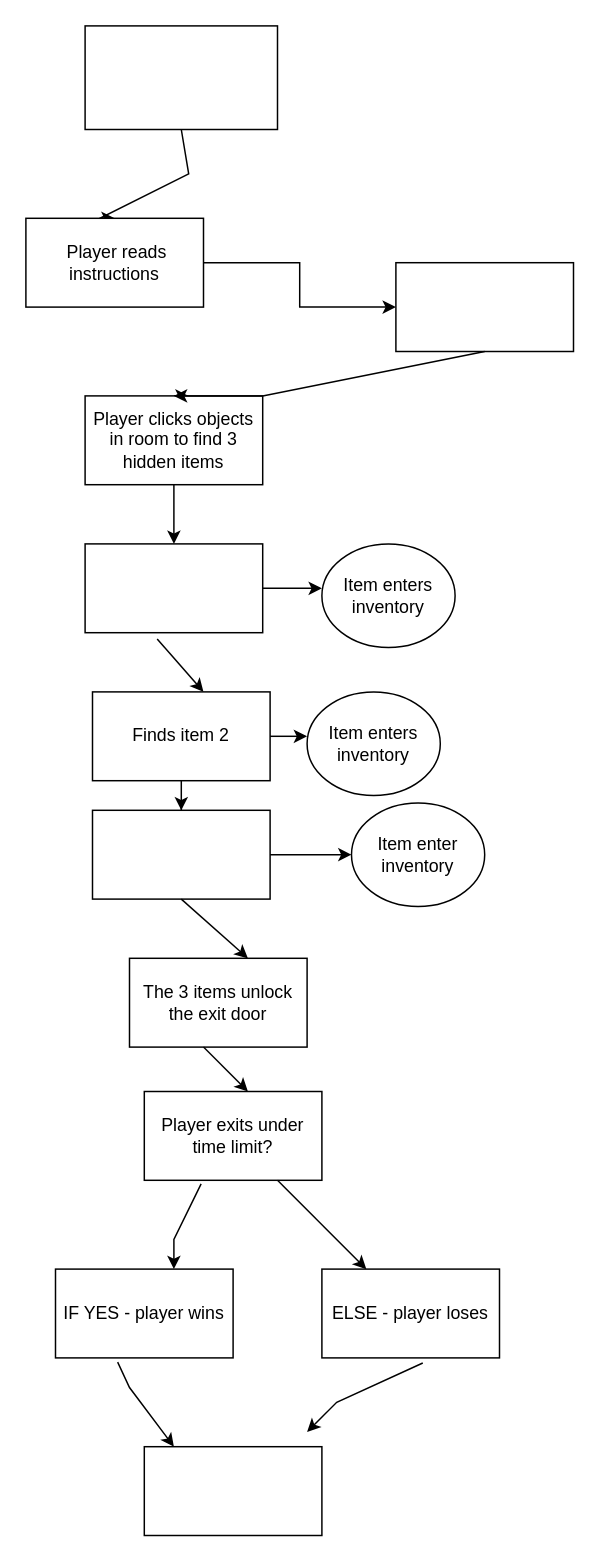
Image size: 599x1561. Some labels were removed from this diagram. The shapes that lost their labels are listed below. From the top down, each one's box as (x1, y1, x2, y2) in pixels, then its label:
(84, 24, 278, 130): Start screen Player enters name
(394, 261, 574, 352): Game starts - switch to game room Countdown starts
(84, 542, 263, 633): Finds item 1 y
(91, 809, 270, 899): Finds item 3
(143, 1445, 322, 1536): Exit game
